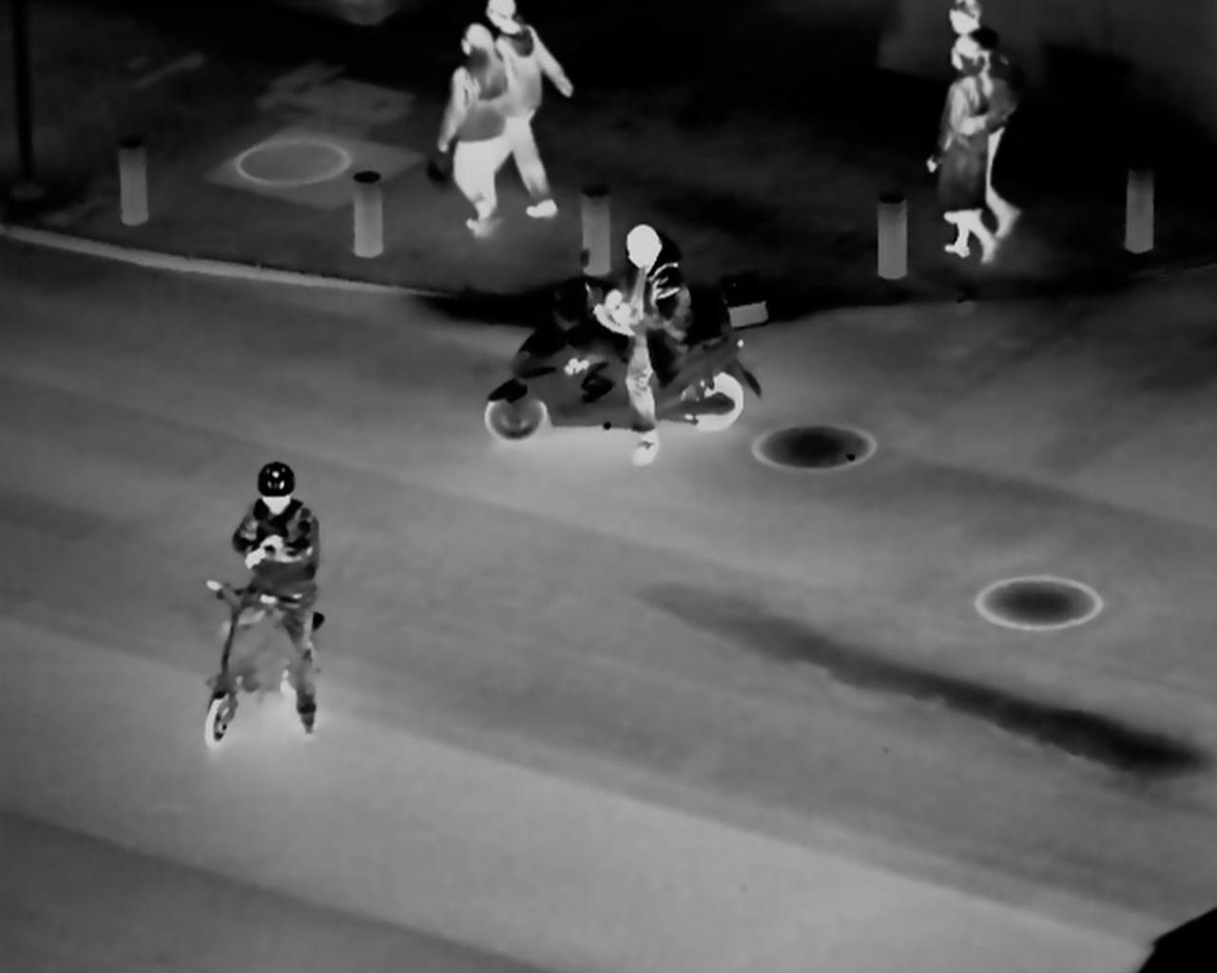person: (213, 455, 334, 751), (596, 205, 687, 464), (483, 4, 570, 228), (439, 14, 509, 221), (937, 31, 995, 263), (973, 19, 1031, 248)
